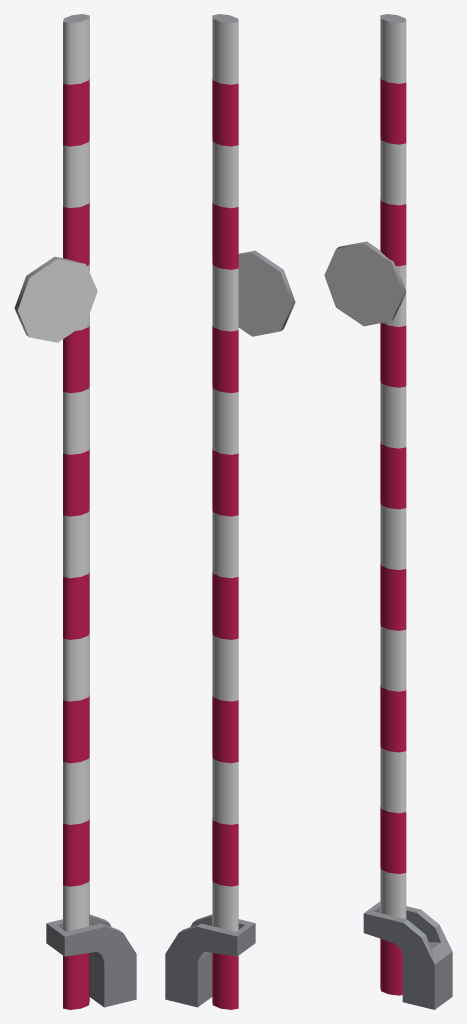
The model's file is Checkpost_pillor.FBX.
3 views of the same model, side by side, from view 1: azimuth 30°, elevation 25°; view 2: azimuth 150°, elevation 25°; view 3: azimuth 330°, elevation 25° (orthographic).
Parts seen in each view (by area): view 1: checkpost_pillor; view 2: checkpost_pillor; view 3: checkpost_pillor.
Part boxes in pixels (x1=…): checkpost_pillor: x1=14, y1=14, x2=136, y2=1009; checkpost_pillor: x1=165, y1=14, x2=295, y2=1009; checkpost_pillor: x1=324, y1=14, x2=452, y2=1009.
Size of the model in its own units: 0.5329 by 4.35 by 0.1464.
1 material, 1 textured.
